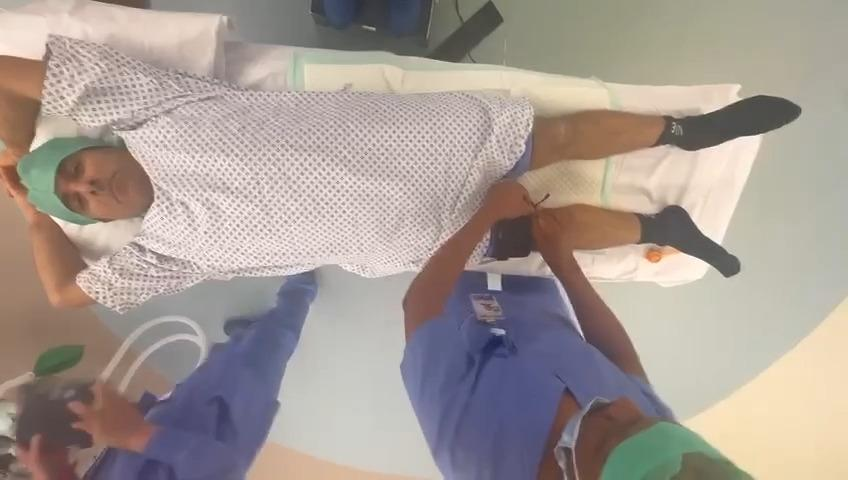patient: (0, 36, 798, 311)
tourniquet: (485, 215, 533, 258)
